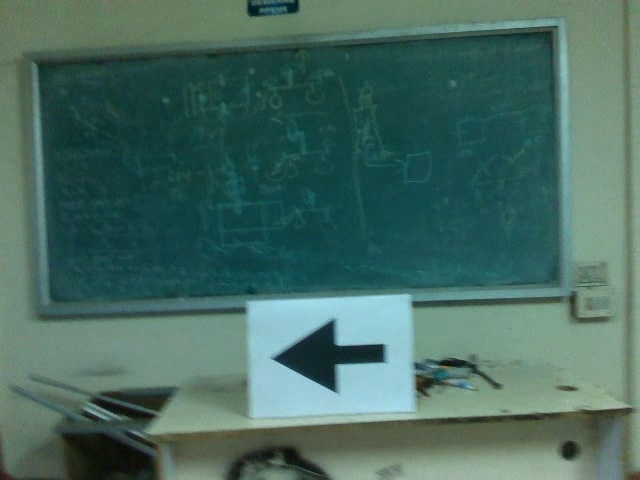Left: (270, 312, 394, 407)
